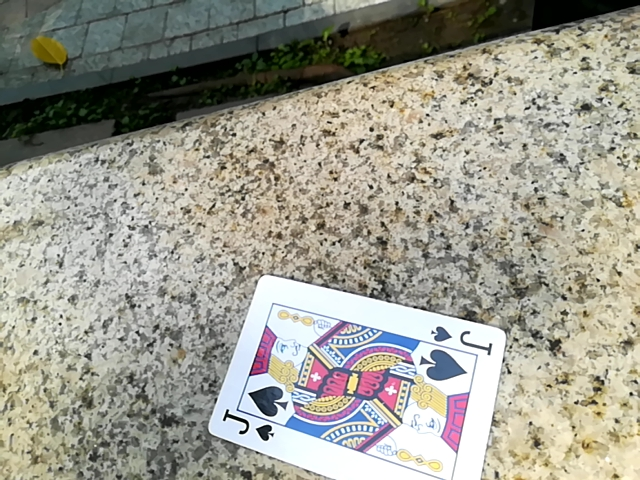ht j: (209, 279, 507, 480)
